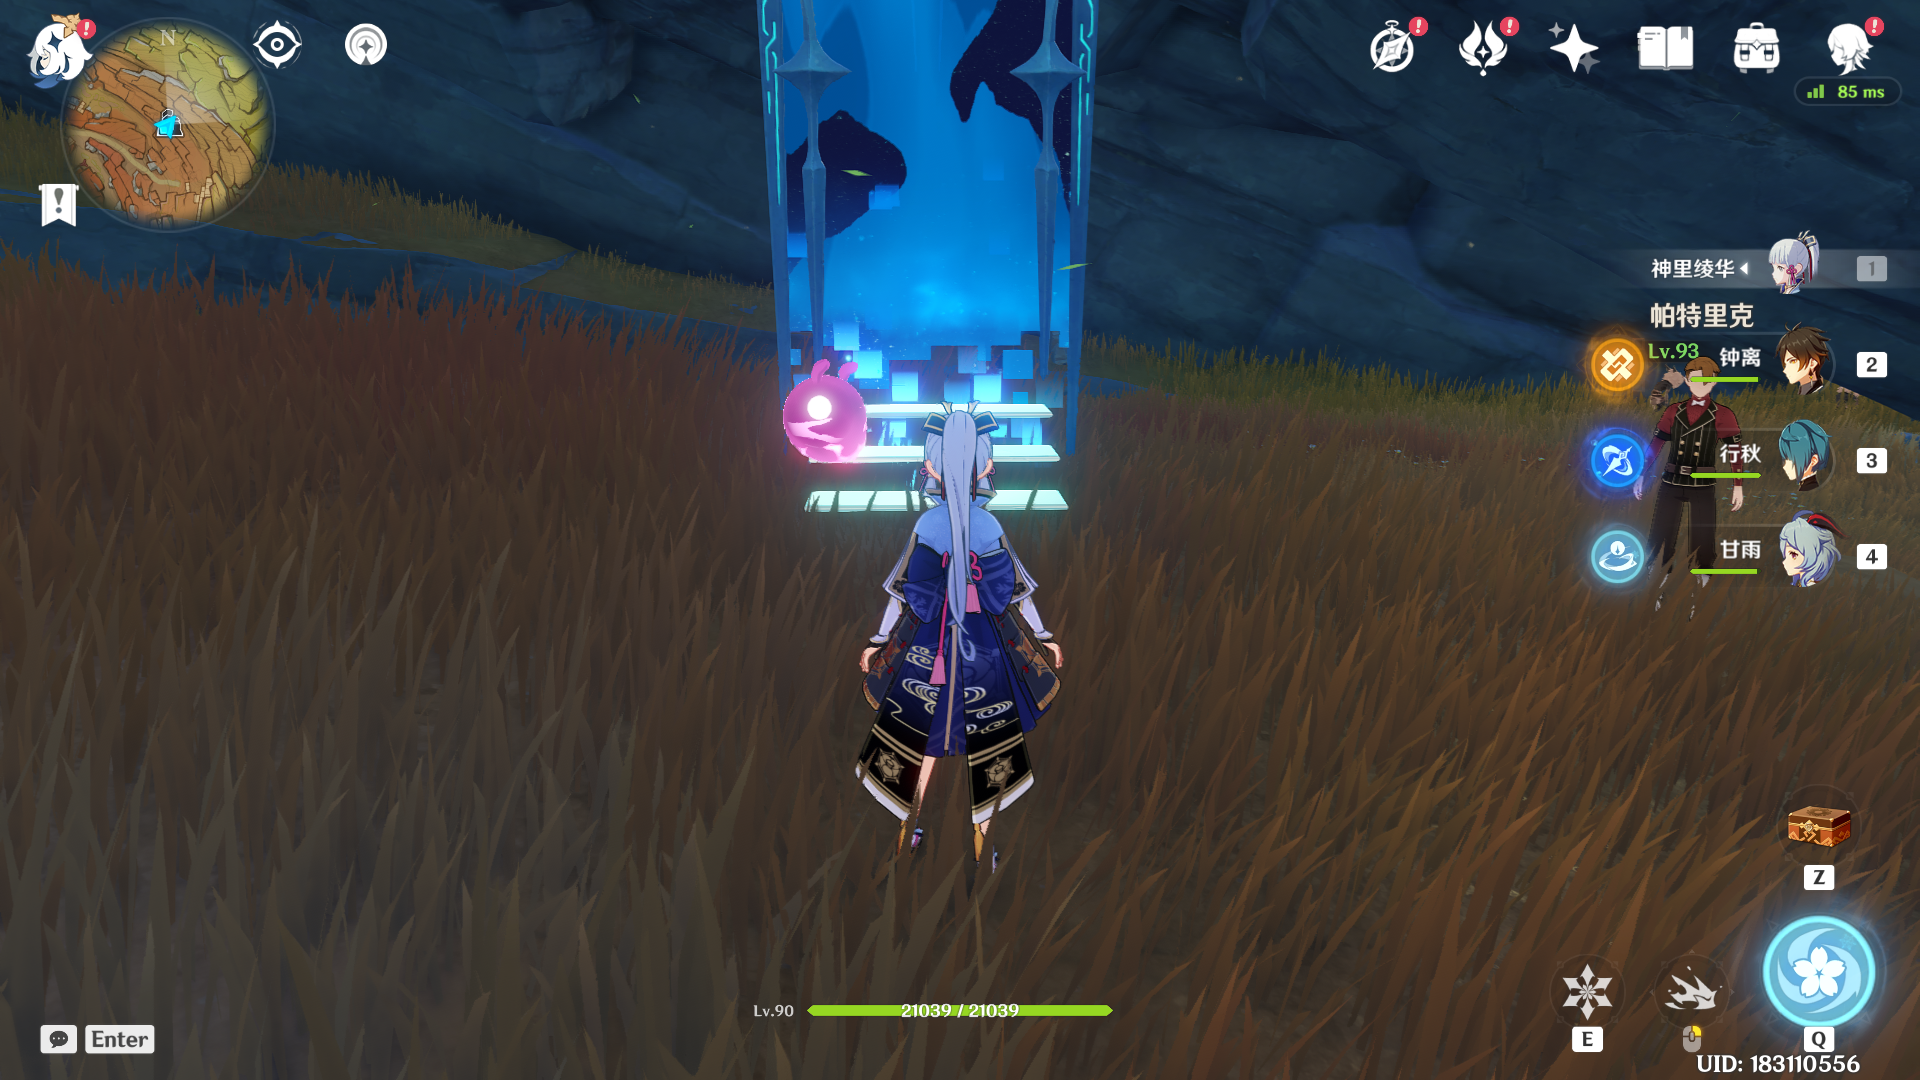character: (800, 405, 1097, 903)
